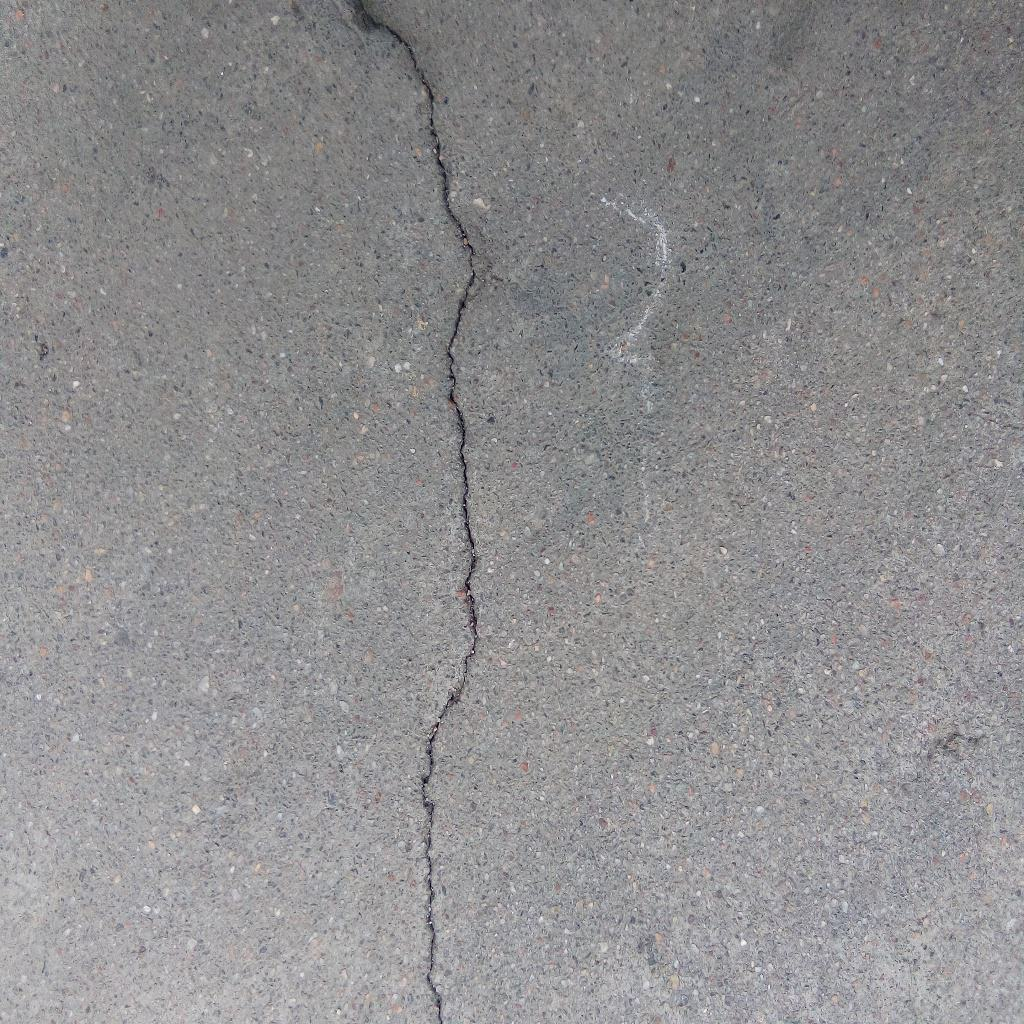Crack: (356, 1, 482, 1024)
